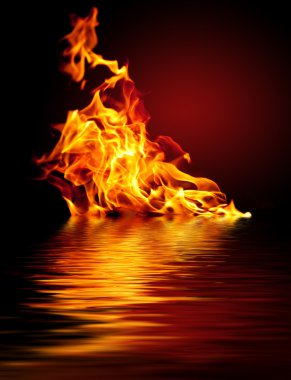fire: (53, 67, 236, 217)
